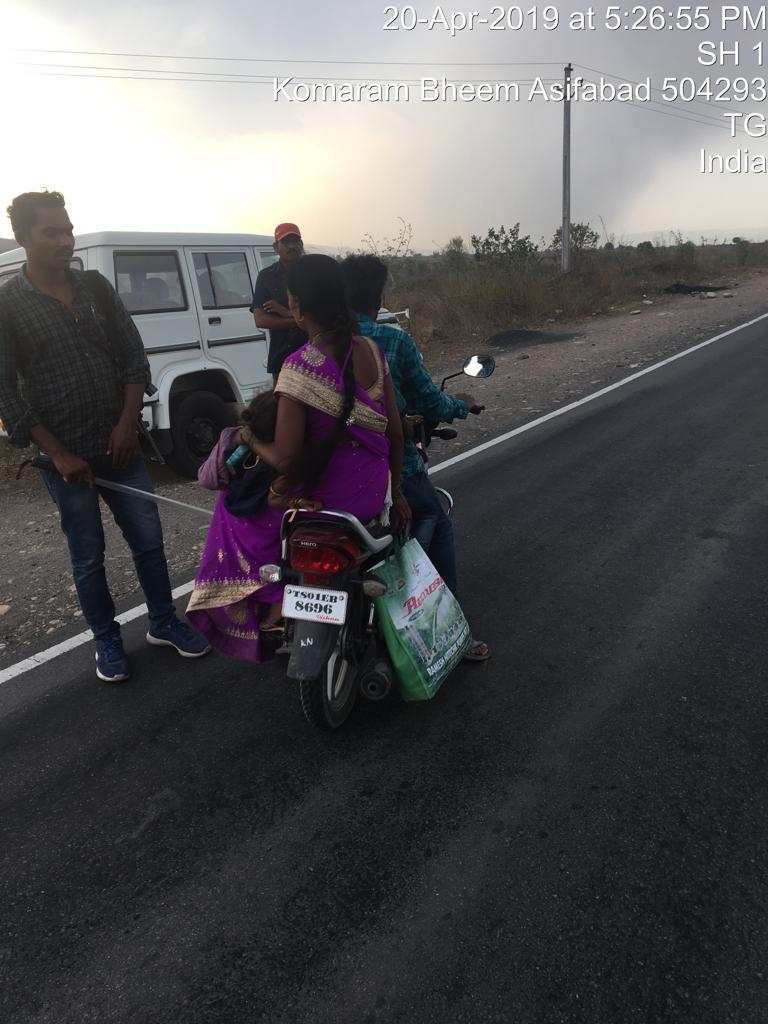plate: (271, 576, 375, 639)
